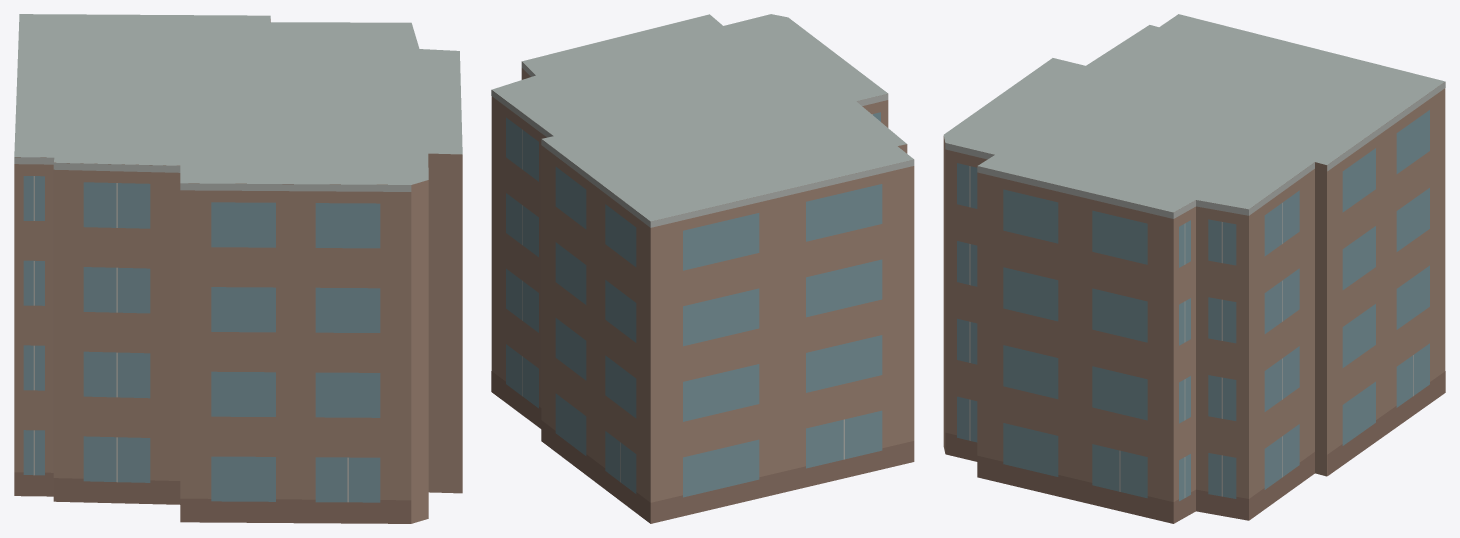
File: survey-upis-32949612.glb
3 renders of one model, left to right at view 1: azimuth 30°, elevation 25°; view 2: azimuth 150°, elevation 25°; view 3: azimuth 270°, elevation 25°, orthographic. The views are drawn at different scales.
Parts seen in each view (by area): view 1: survey-upis-32949612.tmp; view 2: survey-upis-32949612.tmp; view 3: survey-upis-32949612.tmp.
Part boxes in pixels (x1,y1,x2,y2): survey-upis-32949612.tmp: (14, 14, 462, 523); survey-upis-32949612.tmp: (491, 14, 914, 523); survey-upis-32949612.tmp: (943, 14, 1445, 523).
Bounding box in the file's own units: 16.01 × 11.7 × 17.1.
